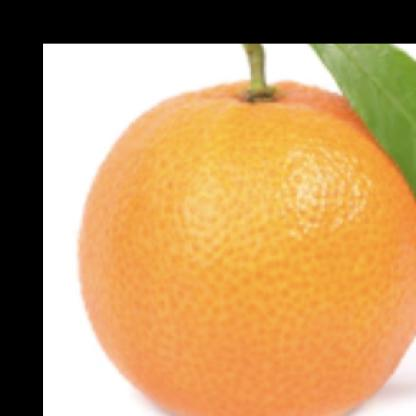fresh: (79, 79, 416, 416)
